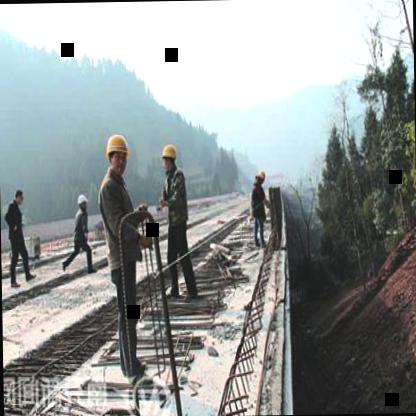head: (13, 184, 27, 208)
helmet: (103, 129, 130, 176), (155, 140, 178, 178), (252, 166, 266, 186), (76, 190, 88, 212)
